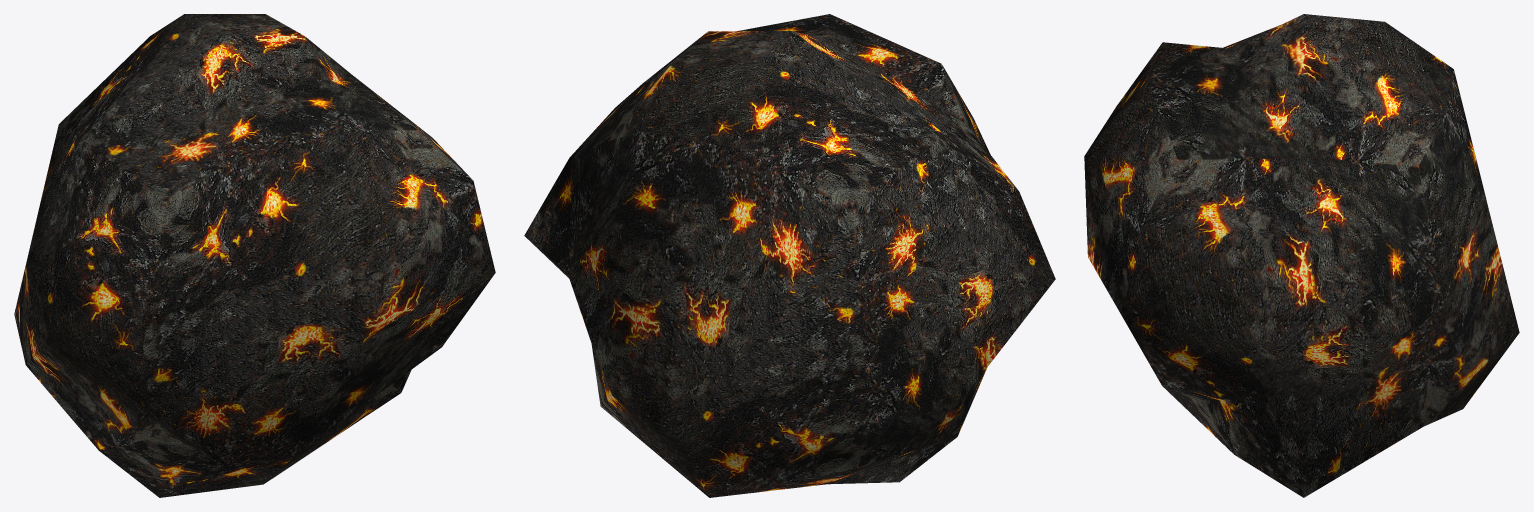
The model's file is asteroid_moltenrock_radial_s03_l1.fbx.
The picture shows the model from 3 angles, left to right: view 1: azimuth 30°, elevation 25°; view 2: azimuth 150°, elevation 25°; view 3: azimuth 270°, elevation 25°; orthographic projection. The views are drawn at different scales.
Parts seen in each view (by area): view 1: mesh_node; view 2: mesh_node; view 3: mesh_node.
Part boxes in pixels (<box>): mesh_node: <box>14,14,495,497</box>; mesh_node: <box>524,14,1055,497</box>; mesh_node: <box>1084,14,1519,497</box>.
Bounding box in the file's own units: 5.63 × 5.4 × 4.83.
1 material, 1 textured.
